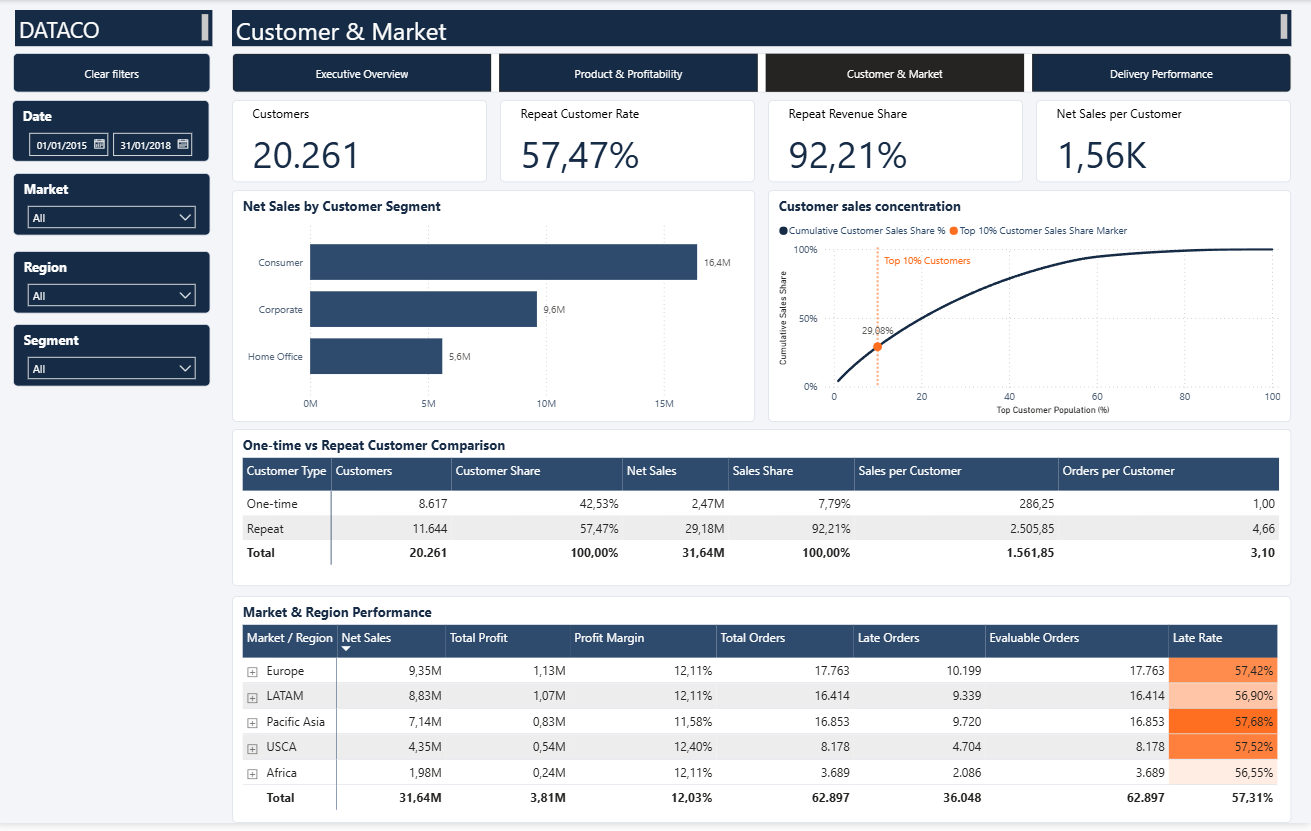

This screenshot's page, from the dashboard's own definition file:
{"tool":"powerbi","page":{"name":"Customer & Market","canvas":[1600,1000],"ordinal":2},"visuals":[{"type":"textbox","box":[24,12,240,44],"z":0},{"type":"textbox","box":[288,12,1288,44],"z":1000},{"type":"actionButton","box":[21.6,64.9,240,48],"z":2000},{"type":"pageNavigator","box":[288,64.9,1288,48],"z":3000},{"type":"slicer","title":"Date","fields":{"Values":["DimDate.Date"]},"box":[20.7,121.6,239.5,75.4],"z":4000},{"type":"cardVisual","fields":{"Data":["FactOrder.Total Customers"]},"box":[288.1,121.6,310,99.7],"z":5000},{"type":"cardVisual","fields":{"Data":["FactOrder.Repeat Customer Rate %"]},"box":[614,121.6,310,99.7],"z":6000},{"type":"cardVisual","fields":{"Data":["FactOrder.Repeat Revenue Share %"]},"box":[939.8,121.6,310,99.7],"z":7000},{"type":"cardVisual","fields":{"Data":["FactOrder.Revenue per Customer"]},"box":[1265.7,121.6,310,99.7],"z":8000},{"type":"slicer","title":"Market","fields":{"Values":["DimGeography.market"]},"box":[21.9,210.3,240,76],"z":9000},{"type":"clusteredBarChart","title":"Net Sales by Customer Segment","fields":{"Category":["DimCustomer.customer_segment"],"Y":["FactOrder.Net Sales (Order)"]},"box":[288.1,231,635.9,282.1],"z":10000},{"type":"lineChart","title":"Customer sales concentration","fields":{"Category":["Customer Percentile.Customer Percent"],"Y":["Customer Percentile.Cumulative Customer Sales Share %","Customer Percentile.Top 10% Customer Sales Share Marker"]},"box":[939.8,231,635.9,282.1],"z":11000},{"type":"slicer","title":"Region","fields":{"Values":["DimGeography.order_region"]},"box":[21.6,304.9,240,76],"z":12000},{"type":"slicer","title":"Segment","fields":{"Values":["DimCustomer.customer_segment"]},"box":[21.9,393.9,240,76],"z":13000},{"type":"pivotTable","title":"One-time vs Repeat Customer Comparison","fields":{"Rows":["DimCustomer.Customer Type — Full Reporting Period"],"Values":["FactOrder.Total Customers","FactOrder.Customer Type Customer Share %","FactOrder.Net Sales (Order)","FactOrder.Customer Type Sales Share %","FactOrder.Revenue per Customer","FactOrder.Orders per Customer"]},"box":[288.1,521.6,1287.5,190.9],"z":16000},{"type":"pivotTable","title":"Market & Region Performance","fields":{"Rows":["DimGeography.market","DimGeography.order_region"],"Values":["FactOrder.Net Sales (Order)","FactOrder.Total Profit (Order)","FactOrder.Profit Margin % (Order)","FactOrder.Total Orders","FactOrder.Late Orders","FactOrder.Evaluable Delivery Orders","FactOrder.Late Delivery Rate %"]},"box":[288.1,724.6,1287.5,276],"z":17000}]}

Visuals, with their boxes in screenshot pixels (x1, y1, x2, y2), scaled from the page's 1600x1000 canvas onto the 1311x831 screenshot:
textbox: box=[20, 10, 216, 47]
textbox: box=[236, 10, 1291, 47]
actionButton: box=[18, 54, 214, 94]
pageNavigator: box=[236, 54, 1291, 94]
"Date" slicer: box=[17, 101, 213, 164]
cardVisual - FactOrder.Total Customers: box=[236, 101, 490, 184]
cardVisual - FactOrder.Repeat Customer Rate %: box=[503, 101, 757, 184]
cardVisual - FactOrder.Repeat Revenue Share %: box=[770, 101, 1024, 184]
cardVisual - FactOrder.Revenue per Customer: box=[1037, 101, 1291, 184]
"Market" slicer: box=[18, 175, 215, 238]
"Net Sales by Customer Segment" clusteredBarChart: box=[236, 192, 757, 426]
"Customer sales concentration" lineChart: box=[770, 192, 1291, 426]
"Region" slicer: box=[18, 253, 214, 317]
"Segment" slicer: box=[18, 327, 215, 390]
"One-time vs Repeat Customer Comparison" pivotTable: box=[236, 433, 1291, 592]
"Market & Region Performance" pivotTable: box=[236, 602, 1291, 830]
